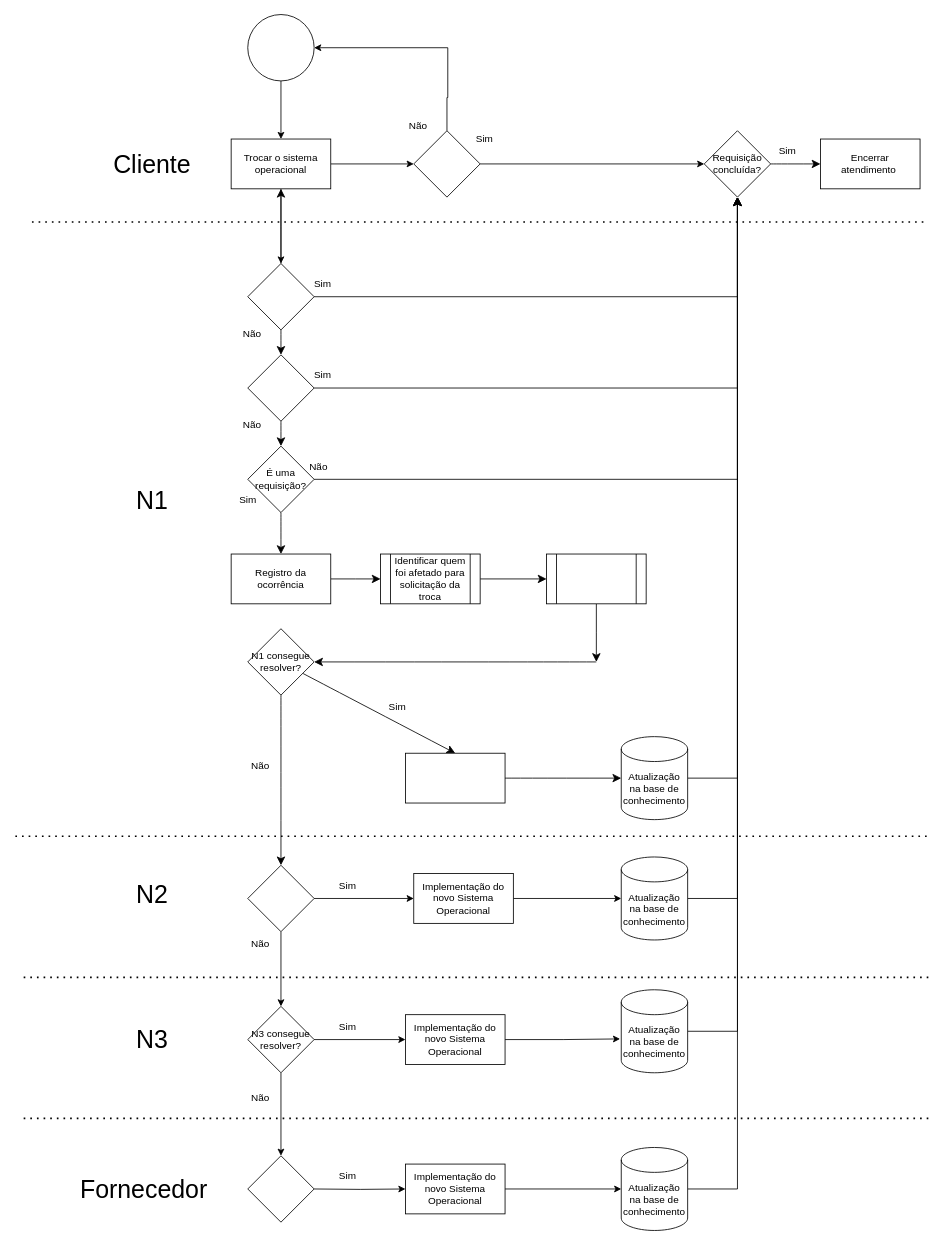
Image size: 946x1245. Some labels were removed from this diagram. Here are the shapes that lost their labels. From the top down, the centre of each, then its label:
pixel 280 47: Inicio
pixel 446 163: Cliente consegue resolver?
pixel 280 296: É um problema?
pixel 280 387: É um incidente?
pixel 596 578: Definir prioridade com base na Matrix SLA
pixel 455 777: Implementação de novo Sistema Operacional
pixel 280 898: N2 consegue resolver?
pixel 280 1188: Fornecedor consegue resolver?
